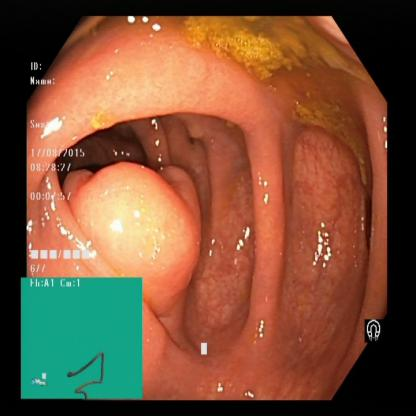Labels: (28, 54, 96, 273), (18, 280, 143, 398), (359, 300, 390, 351)
Polyps: (86, 164, 216, 296)
